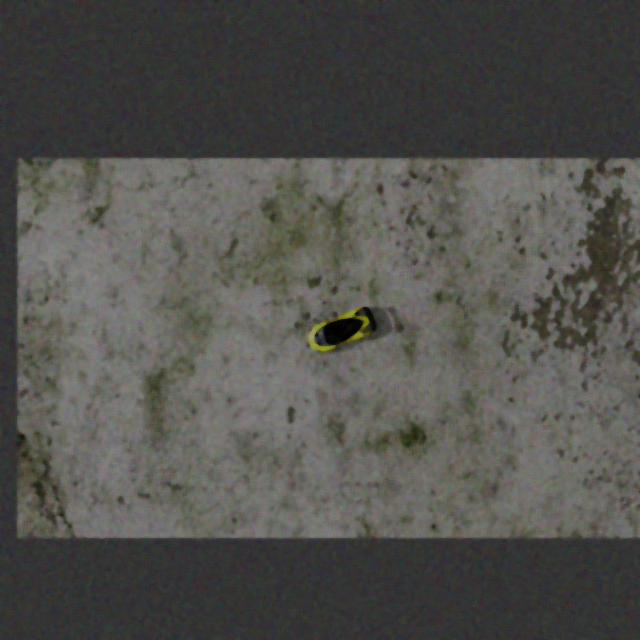car: (302, 302, 380, 358)
